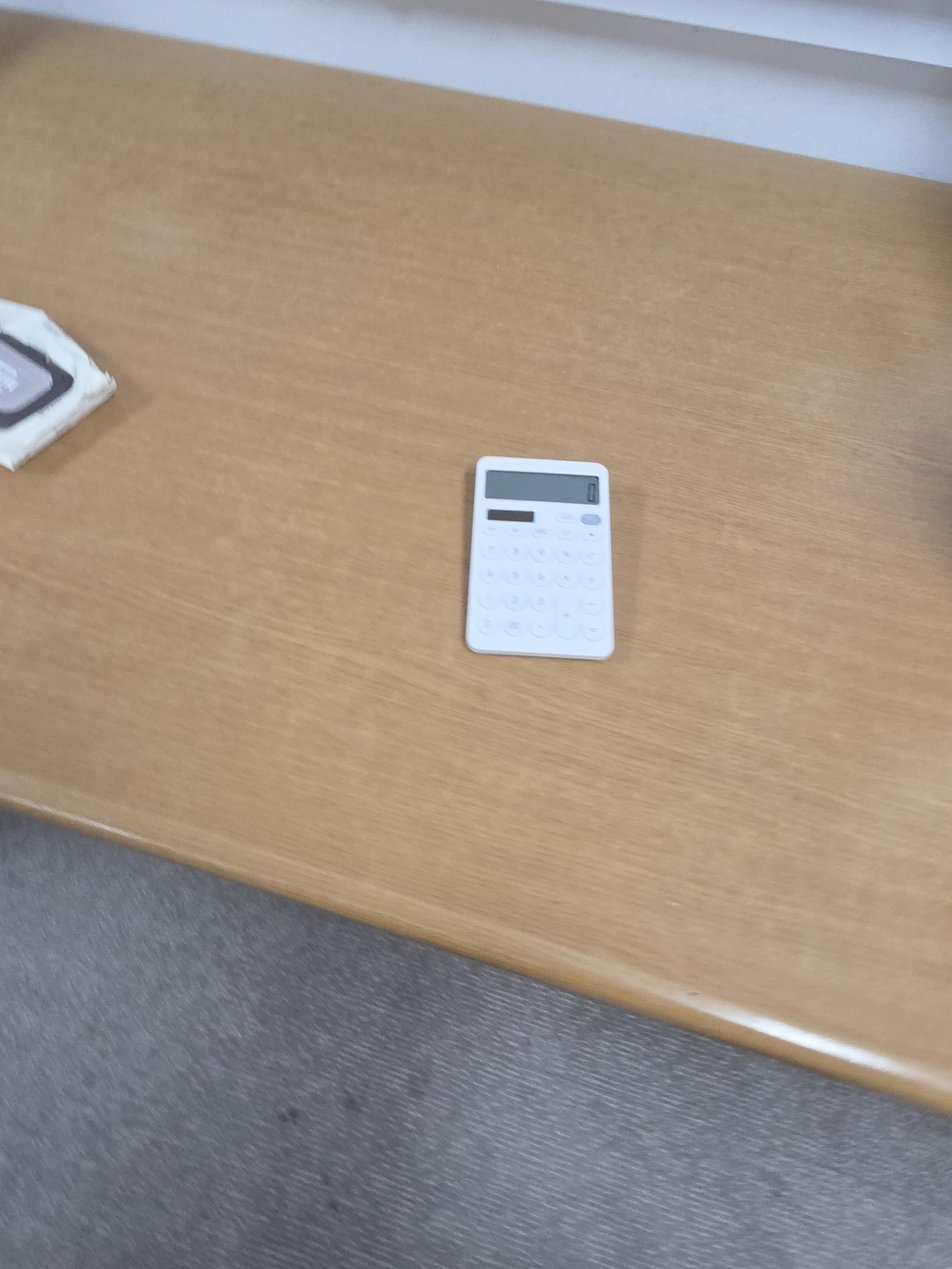calculator: (465, 456, 615, 660)
tissue: (0, 299, 116, 471)
